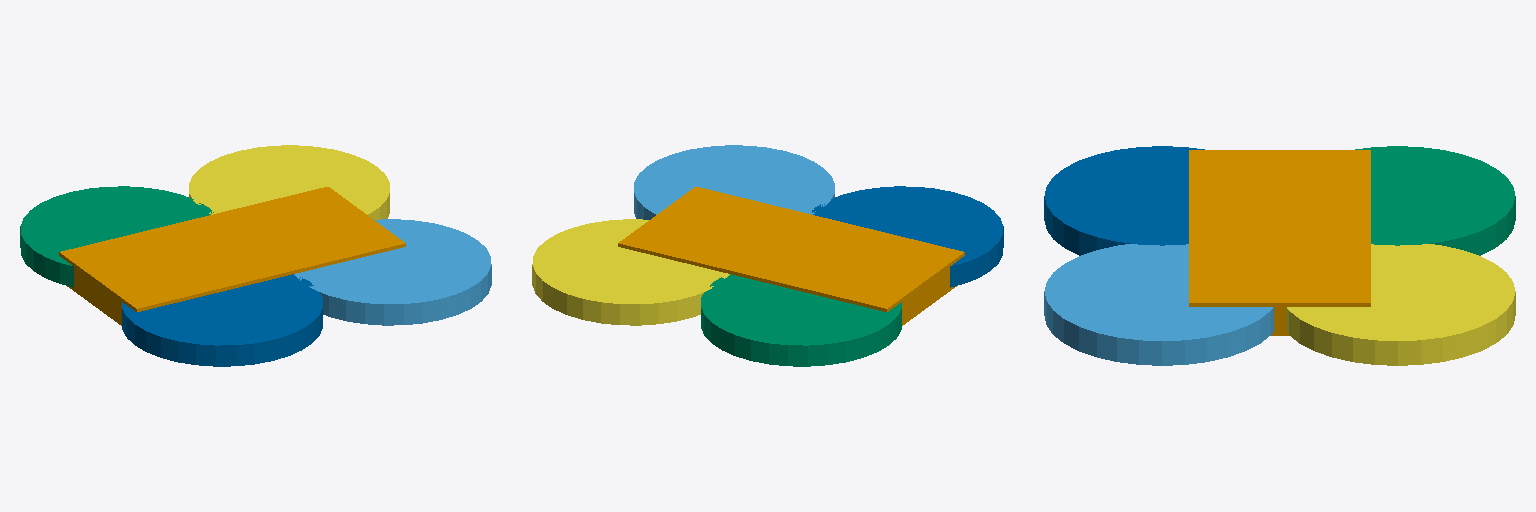
URDF robot description (drone):
<?xml version="1.0"?>
   <robot name="drone">

     <link name="base_link">
       <visual>
         <origin xyz="0 0 0" rpy="0 0 0" />
         <geometry>
           <box size="0.4 0.2 0.04"/>
         </geometry>
       </visual>
       <collision>
          <origin xyz="0 0 0" rpy="0 0 0" />
          <geometry>
            <box size="0.4 0.04 0.04"/>
          </geometry>
        </collision>
        <inertial>
          <mass value="0.3"/>
          <inertia ixx="1.0" ixy="0.0" ixz="0.0" iyy="1.0" iyz="0.0" izz="1.0"/>
        </inertial>
     </link>

     <!-- <link name="FR"> -->
     <link name="m1">
       <visual>
         <origin xyz="0.16 -0.13 0" rpy="0 0 0" />
         <geometry>
            <cylinder length="0.03" radius="0.13"/>
         </geometry>
       </visual>
       <collision>
          <origin xyz="0.16 -0.13 0" rpy="0 0 0" />
          <geometry>
            <cylinder length="0.03" radius="0.13"/>
          </geometry>
        </collision>
        <inertial>
           <mass value="0.2"/>
           <inertia ixx="1.0" ixy="0.0" ixz="0.0" iyy="1.0" iyz="0.0" izz="1.0"/>
         </inertial>
     </link>
     <!-- <link name="BL"> -->
     <link name="m2">
       <visual>
         <origin xyz="-0.09 0.13 0" rpy="0 0 0" />
         <geometry>
            <cylinder length="0.03" radius="0.13"/>
         </geometry>
       </visual>
       <collision>
          <origin xyz="-0.09 0.13 0" rpy="0 0 0" />
          <geometry>
            <cylinder length="0.03" radius="0.13"/>
          </geometry>
        </collision>
        <inertial>
           <mass value="0.2"/>
           <inertia ixx="1.0" ixy="0.0" ixz="0.0" iyy="1.0" iyz="0.0" izz="1.0"/>
         </inertial>
     </link>
     <!-- <link name="FL"> -->
     <link name="m3">
       <visual>
         <origin xyz="0.16 0.13 0" rpy="0 0 0" />
         <geometry>
            <cylinder length="0.03" radius="0.13"/>
         </geometry>
       </visual>
       <collision>
          <origin xyz="0.16 0.13 0" rpy="0 0 0" />
          <geometry>
            <cylinder length="0.03" radius="0.13"/>
          </geometry>
        </collision>
        <inertial>
           <mass value="0.2"/>
           <inertia ixx="1.0" ixy="0.0" ixz="0.0" iyy="1.0" iyz="0.0" izz="1.0"/>
        </inertial>
     </link>
     <!-- <link name="BR"> -->
     <link name="m4">
       <visual>
		 <origin xyz="-0.09 -0.13 0" rpy="0 0 0" />
         <geometry>
            <cylinder length="0.03" radius="0.13"/>
         </geometry>
       </visual>
       <collision>
          <origin xyz="-0.09 -0.13 0" rpy="0 0 0" />
          <geometry>
            <cylinder length="0.03" radius="0.13"/>
          </geometry>
        </collision>
        <inertial>
           <mass value="0.2"/>
           <inertia ixx="1.0" ixy="0.0" ixz="0.0" iyy="1.0" iyz="0.0" izz="1.0"/>
         </inertial>
     </link>

     <joint name="base_to_m1" type="fixed">
       <parent link="base_link"/>
       <child link="m1"/>
     </joint>
     <joint name="base_to_m2" type="fixed">
       <parent link="base_link"/>
       <child link="m2"/>
     </joint>
     <joint name="base_to_m3" type="fixed">
       <parent link="base_link"/>
       <child link="m3"/>
     </joint>
     <joint name="base_to_m4" type="fixed">
       <parent link="base_link"/>
       <child link="m4"/>
     </joint>
   </robot>

--- What the picture shows (computed from the rendered views, not written in the file) ---
Views: 3 orthographic renders of the robot side by side, from view 1: azimuth 30°, elevation 25°; view 2: azimuth 150°, elevation 25°; view 3: azimuth 270°, elevation 25°.
Robot: drone — 5 links, 4 joints (4 fixed); root link base_link; default pose: every joint at zero.
Visible links, largest first — view 1: base_link, m1, m4, m3, m2; view 2: base_link, m3, m2, m1, m4; view 3: base_link, m1, m3, m2, m4.
Boxes of the visible links, left/top/right/bottom form: base_link: left=59, top=187, right=405, bottom=325; m1: left=294, top=219, right=491, bottom=325; m4: left=122, top=274, right=322, bottom=366; m3: left=189, top=145, right=389, bottom=219; m2: left=20, top=186, right=213, bottom=287; base_link: left=618, top=187, right=964, bottom=325; m3: left=532, top=219, right=729, bottom=325; m2: left=701, top=274, right=901, bottom=366; m1: left=634, top=145, right=834, bottom=219; m4: left=812, top=186, right=1003, bottom=287; base_link: left=1189, top=150, right=1370, bottom=335; m1: left=1044, top=244, right=1273, bottom=365; m3: left=1286, top=244, right=1515, bottom=365; m2: left=1355, top=146, right=1515, bottom=255; m4: left=1044, top=146, right=1204, bottom=255.
Size in the robot's own frame: 0.51 by 0.52 by 0.04 metres.
Geometry: primitives only (box / cylinder / sphere), no mesh files.